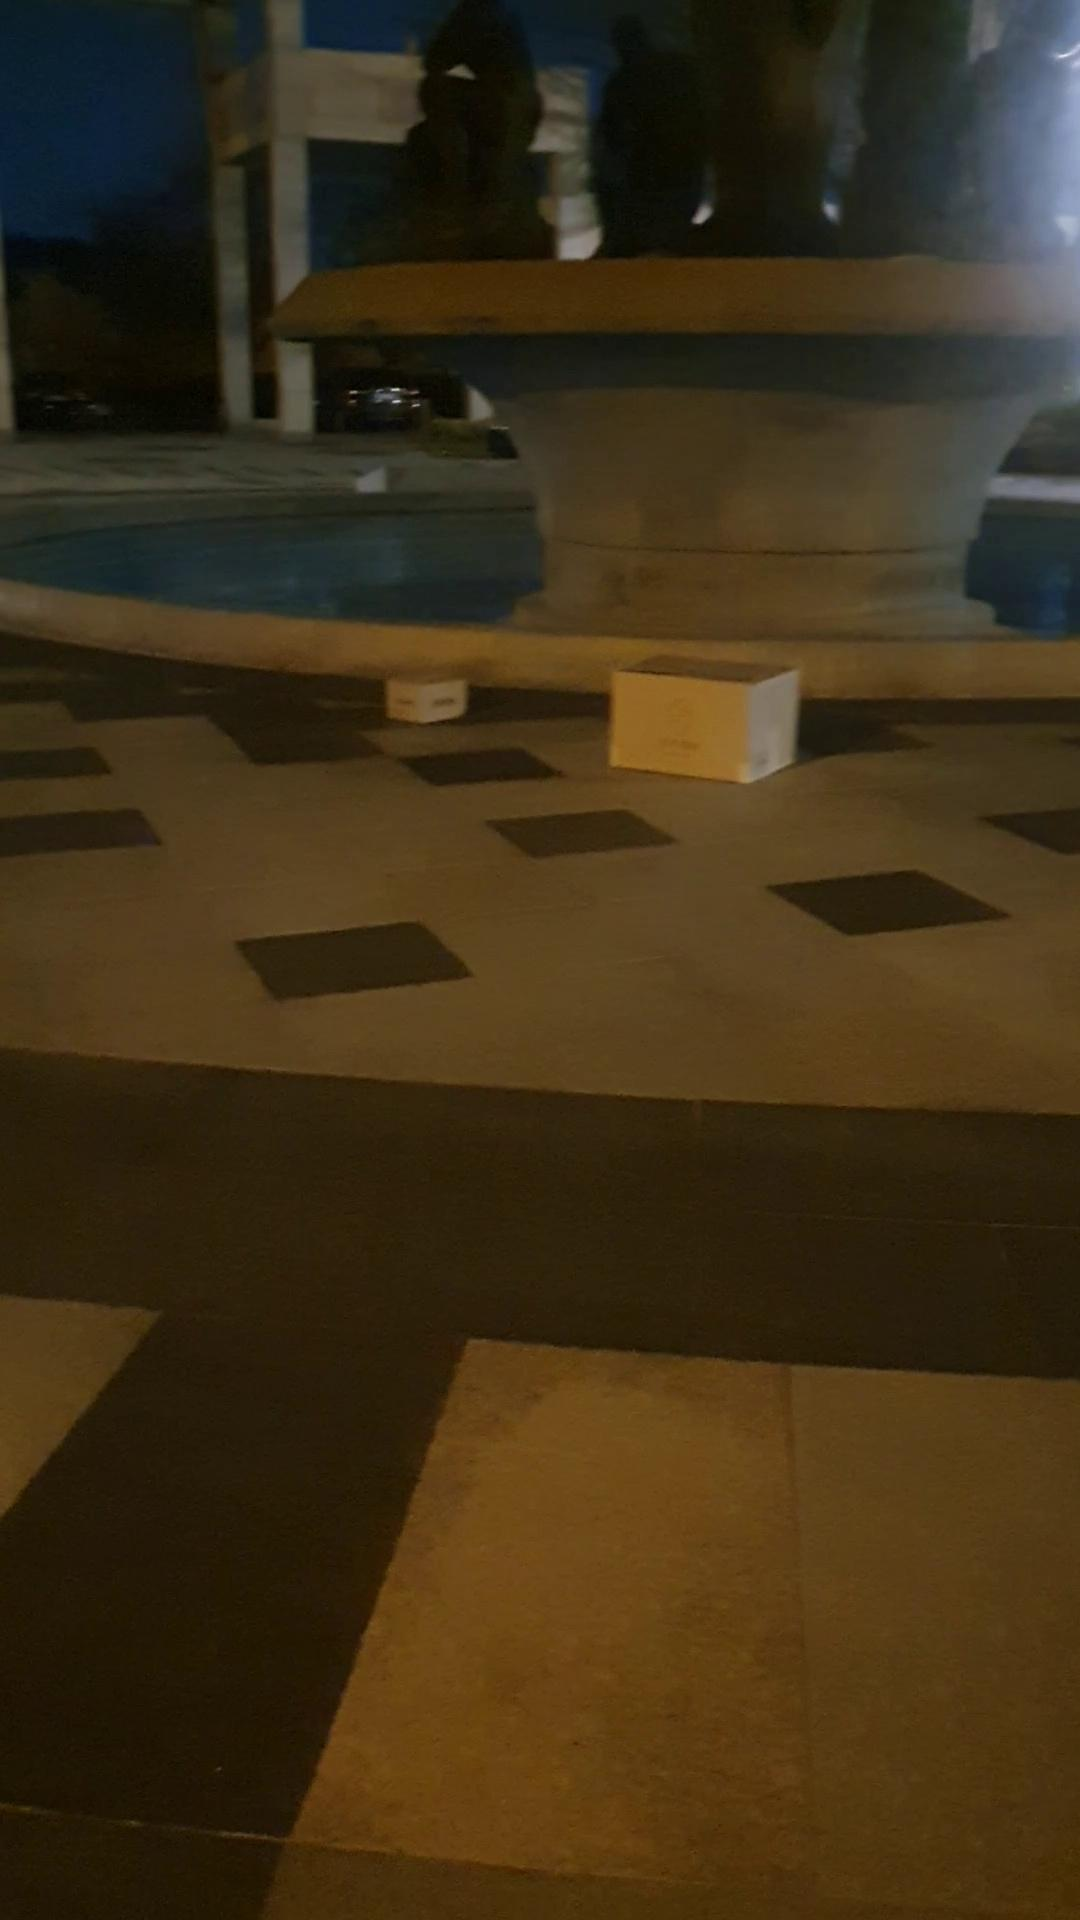Box: (613, 640, 812, 793), (381, 658, 469, 733)
